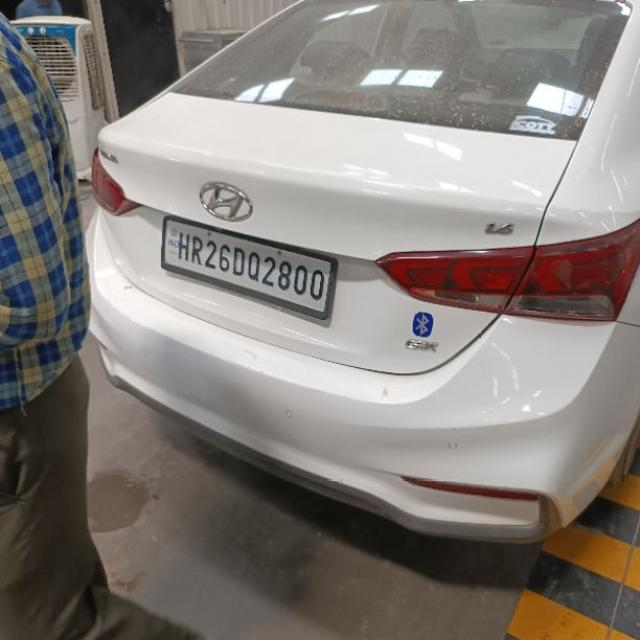license_plate: (159, 214, 338, 322)
